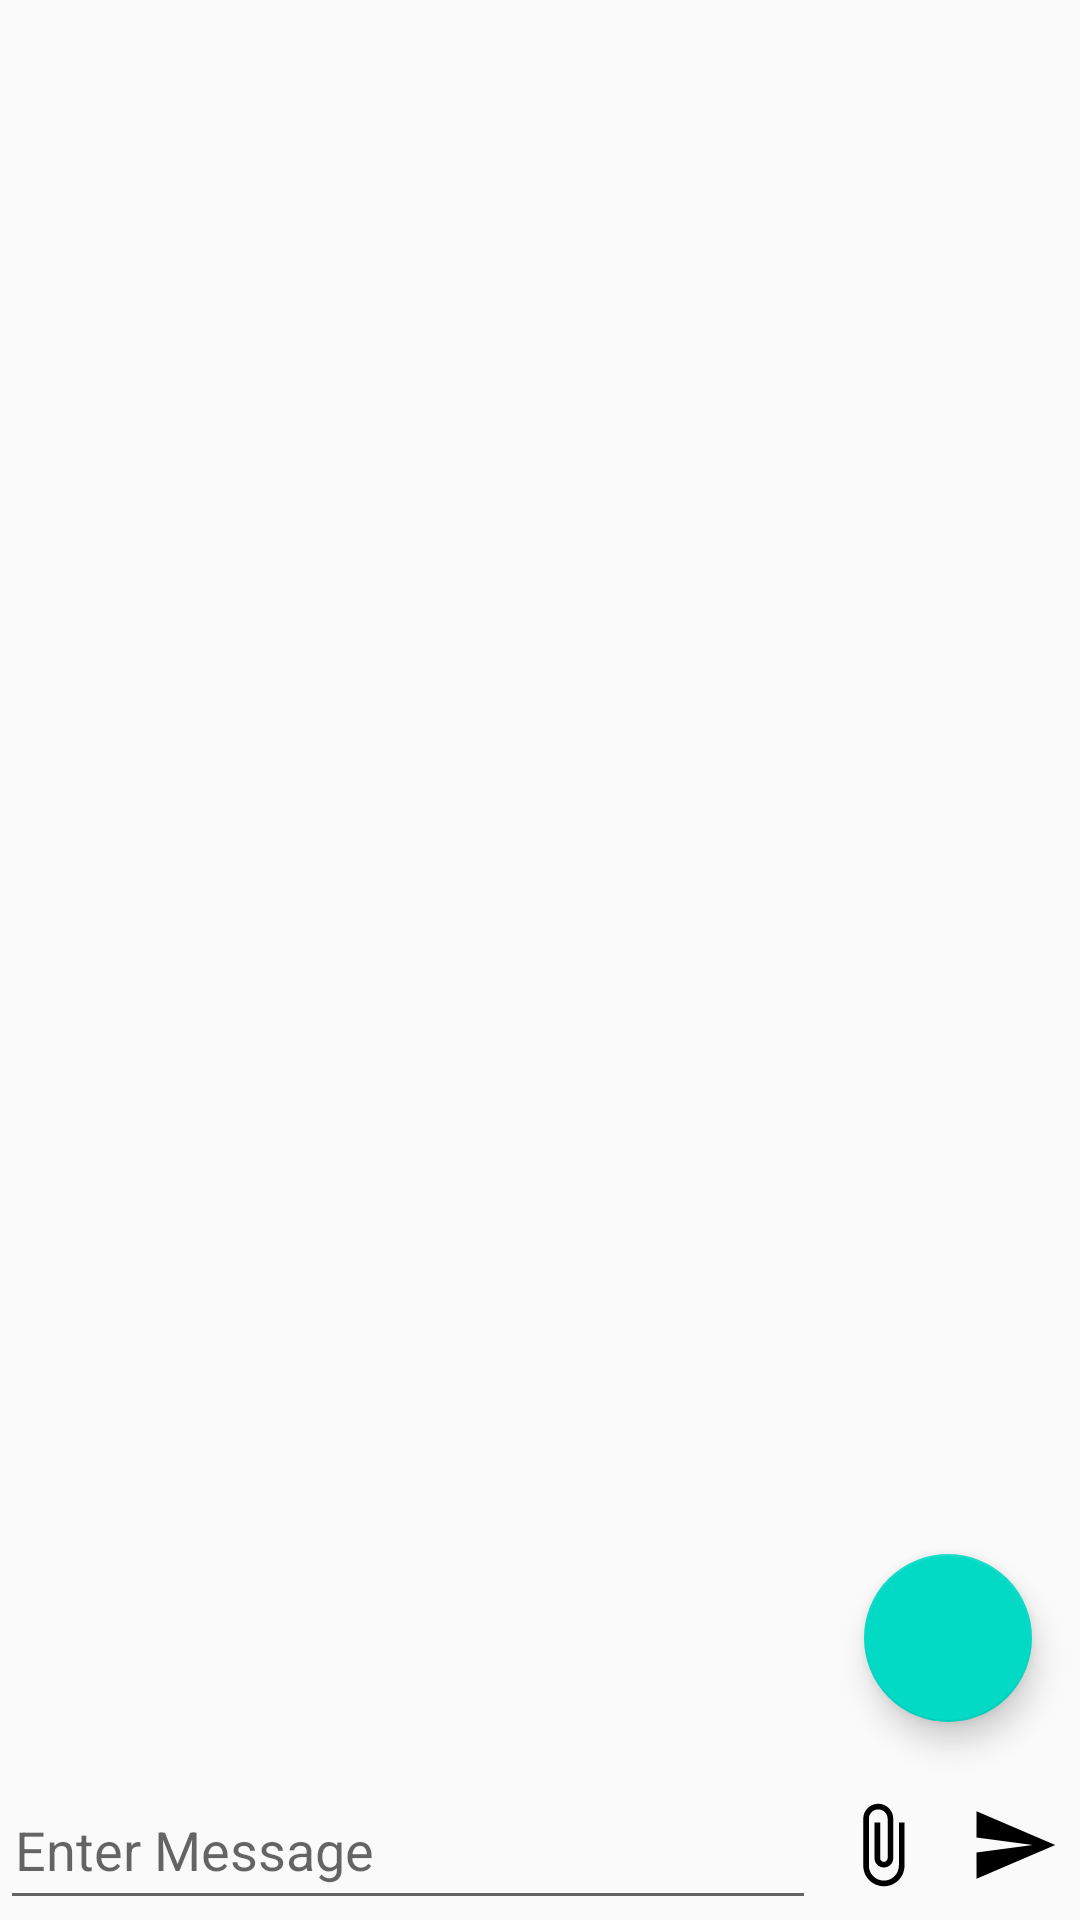

Locate icon controls on the screen. Image size 1080px x 1920px, boxes as (left=x1, top=y1, right=x2, bottom=y2).
attach: (left=863, top=1803, right=905, bottom=1887)
send: (left=976, top=1811, right=1055, bottom=1879)
